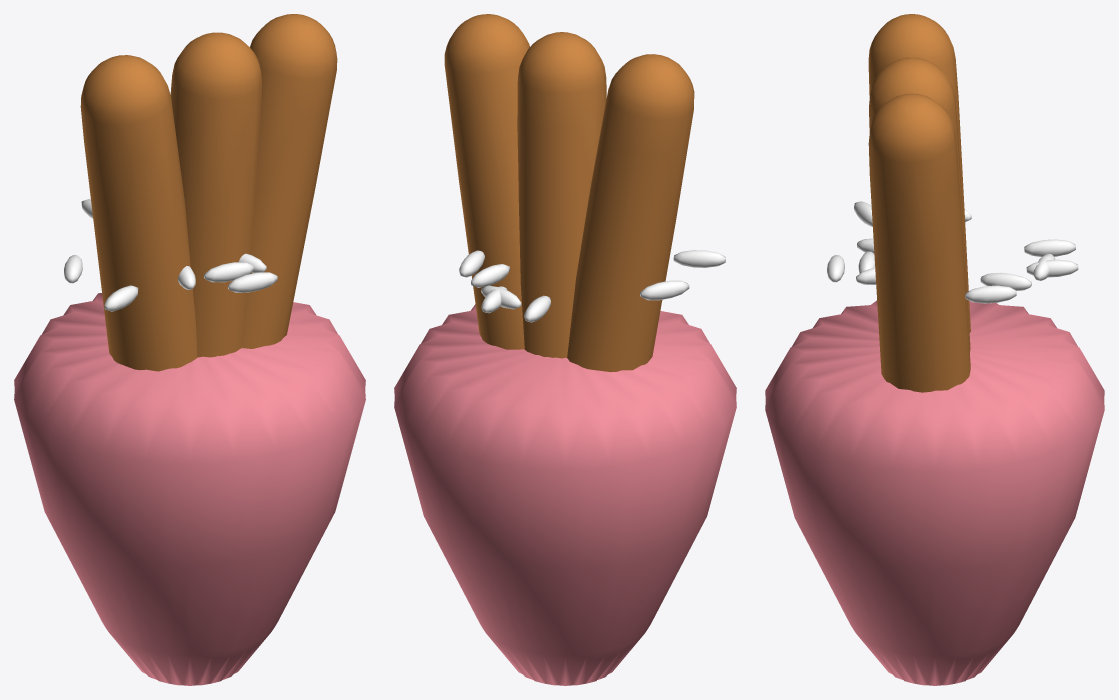
Rendered from comida_churros.glb.
3 renders of one model, left to right at view 1: azimuth 30°, elevation 25°; view 2: azimuth 150°, elevation 25°; view 3: azimuth 270°, elevation 25°, orthographic. The views are drawn at different scales.
Parts seen in each view (by area): view 1: cono churros.001, churro 0.001, churro 1.001, churro 2.001, chispa 7.006, chispa 9.006, chispa 0.006; view 2: cono churros.001, churro 0.001, churro 1.001, churro 2.001, chispa 0.006, chispa 4.006, chispa 1.006; view 3: cono churros.001, churro 2.001, churro 0.001, churro 1.001, chispa 2.006, chispa 3.006, chispa 1.006, chispa 8.006.
Part boxes in pixels (bbox=[...]): cono churros.001: bbox=[14, 293, 365, 685]; churro 0.001: bbox=[80, 55, 197, 371]; churro 1.001: bbox=[170, 32, 262, 357]; churro 2.001: bbox=[242, 14, 337, 348]; chispa 7.006: bbox=[228, 272, 277, 292]; chispa 9.006: bbox=[204, 262, 253, 282]; chispa 0.006: bbox=[104, 285, 138, 311]; cono churros.001: bbox=[394, 304, 736, 685]; churro 0.001: bbox=[567, 54, 694, 372]; churro 1.001: bbox=[517, 32, 606, 358]; churro 2.001: bbox=[444, 14, 529, 349]; chispa 0.006: bbox=[673, 250, 725, 267]; chispa 4.006: bbox=[640, 280, 689, 300]; chispa 1.006: bbox=[471, 264, 509, 287]; cono churros.001: bbox=[765, 300, 1104, 685]; churro 2.001: bbox=[868, 93, 970, 392]; churro 0.001: bbox=[868, 14, 970, 332]; churro 1.001: bbox=[869, 57, 970, 352]; chispa 2.006: bbox=[965, 285, 1016, 303]; chispa 3.006: bbox=[1024, 239, 1075, 256]; chispa 1.006: bbox=[980, 272, 1031, 290]; chispa 8.006: bbox=[1026, 259, 1078, 277].
Bounding box in the file's own units: 0.1496 × 0.3016 × 0.1496.
